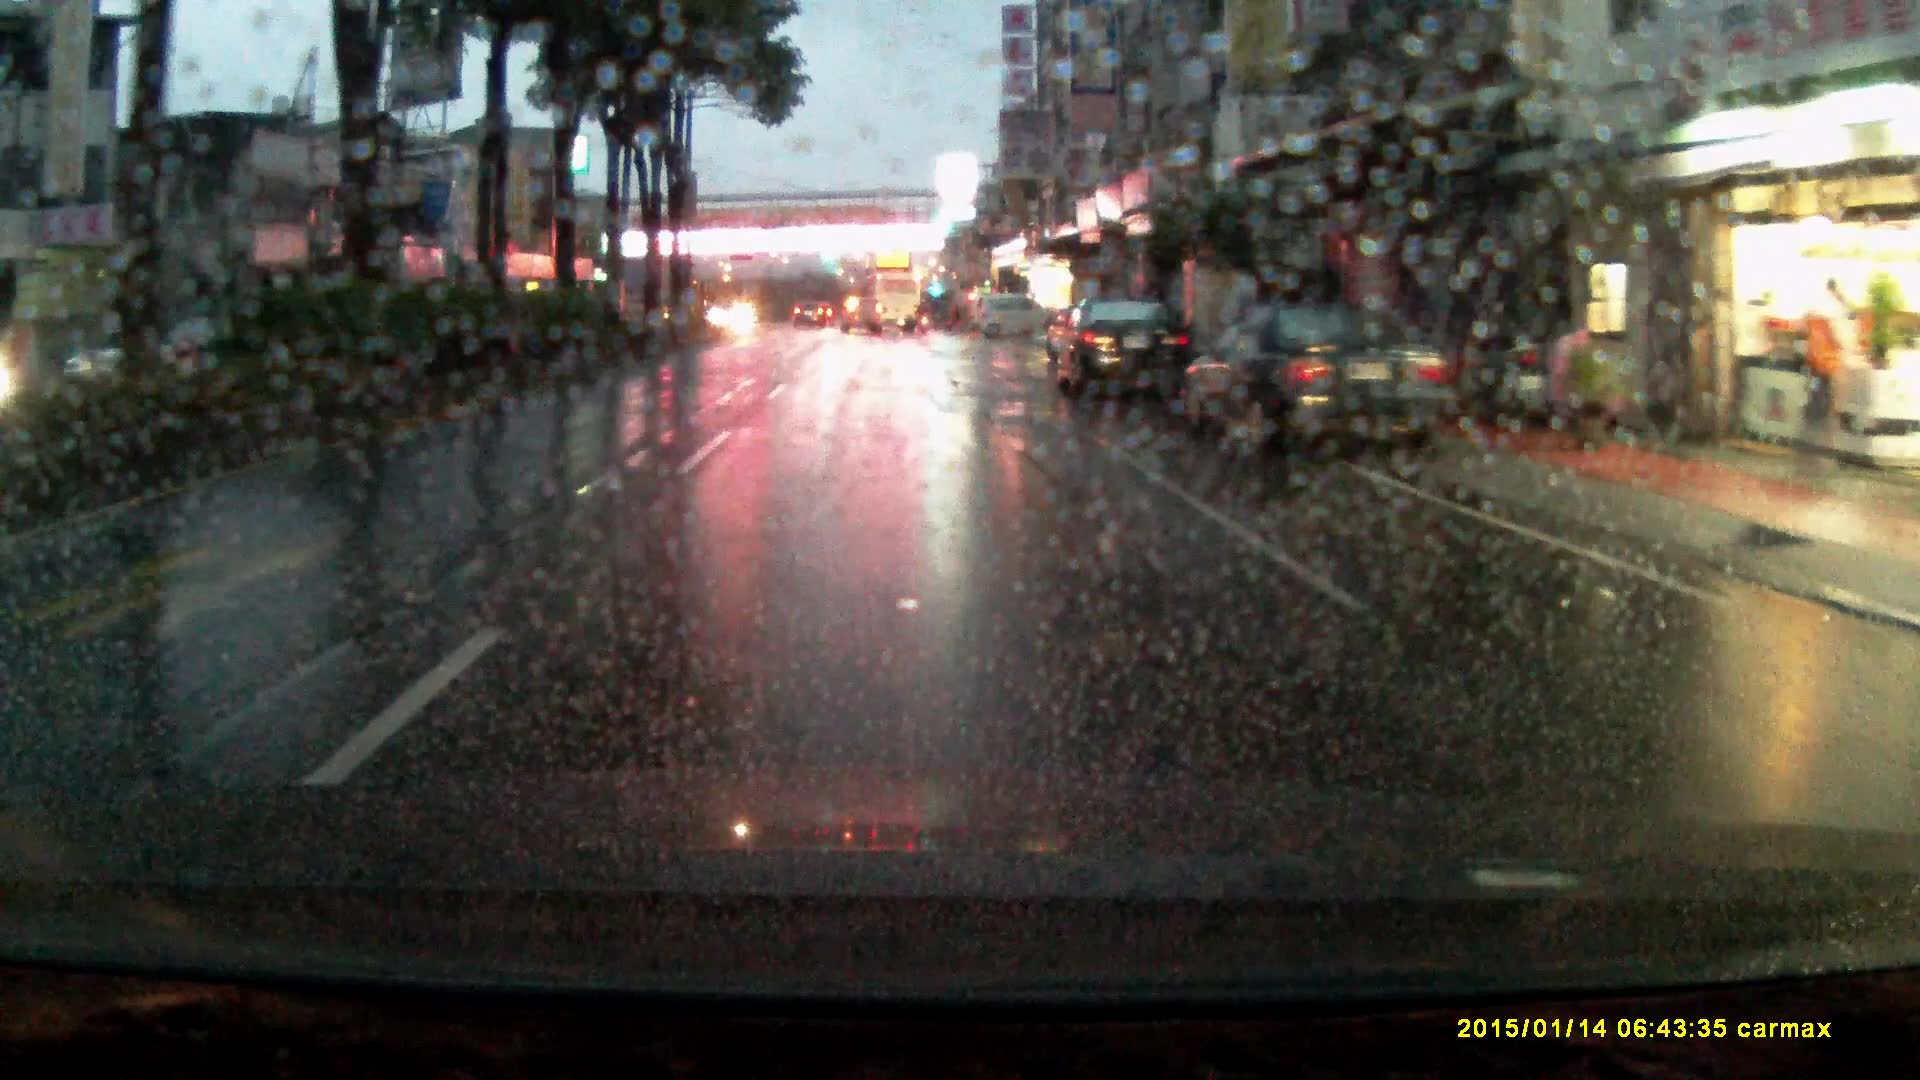vehicle: (1172, 305, 1470, 465), (1052, 293, 1200, 411), (55, 326, 208, 386), (975, 291, 1052, 342), (864, 269, 922, 331), (841, 295, 887, 338), (796, 301, 829, 330)
